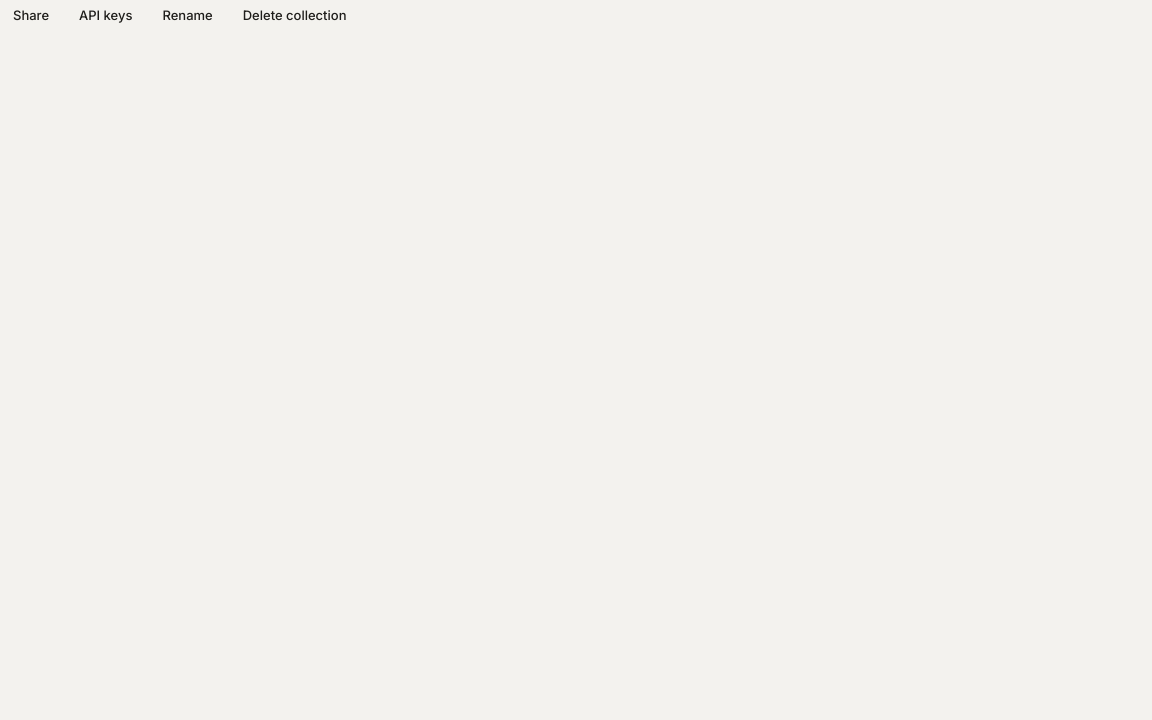
Test: Collection settings › keeps the dialog open and says why when deleting fails
Click the button "Delete collection". click: (295, 16)
box: [230,0,360,32]
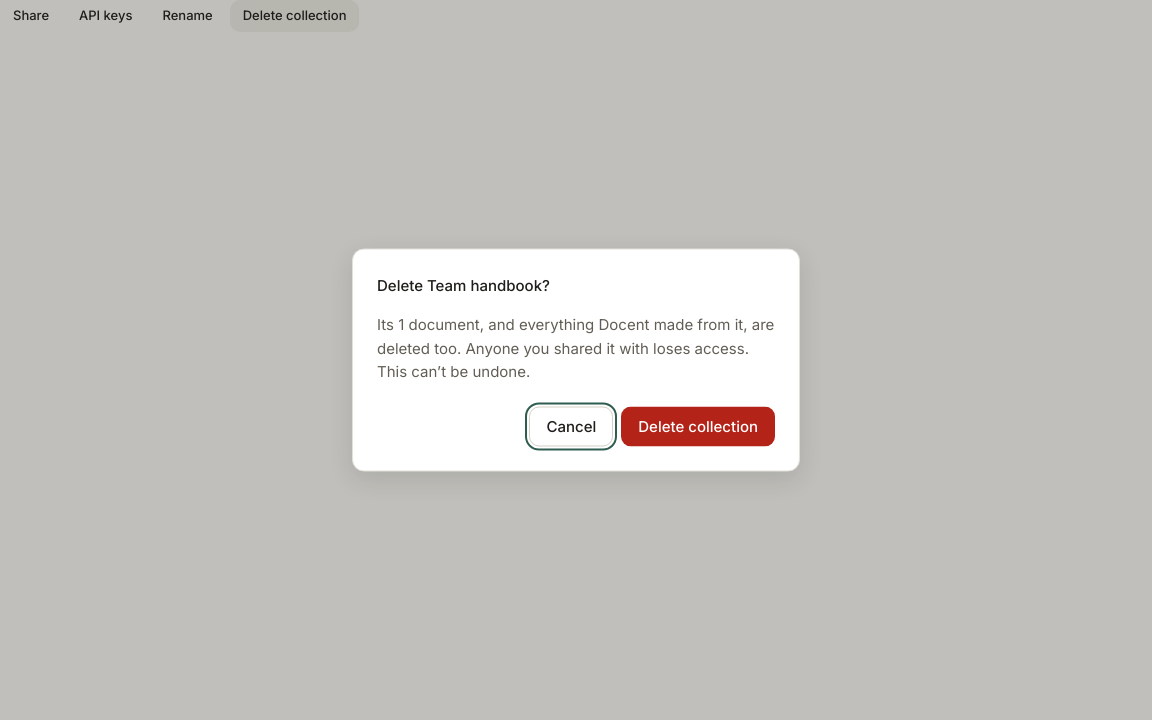
Click the button "Delete collection". click: (698, 426)
box: [621,406,775,446]
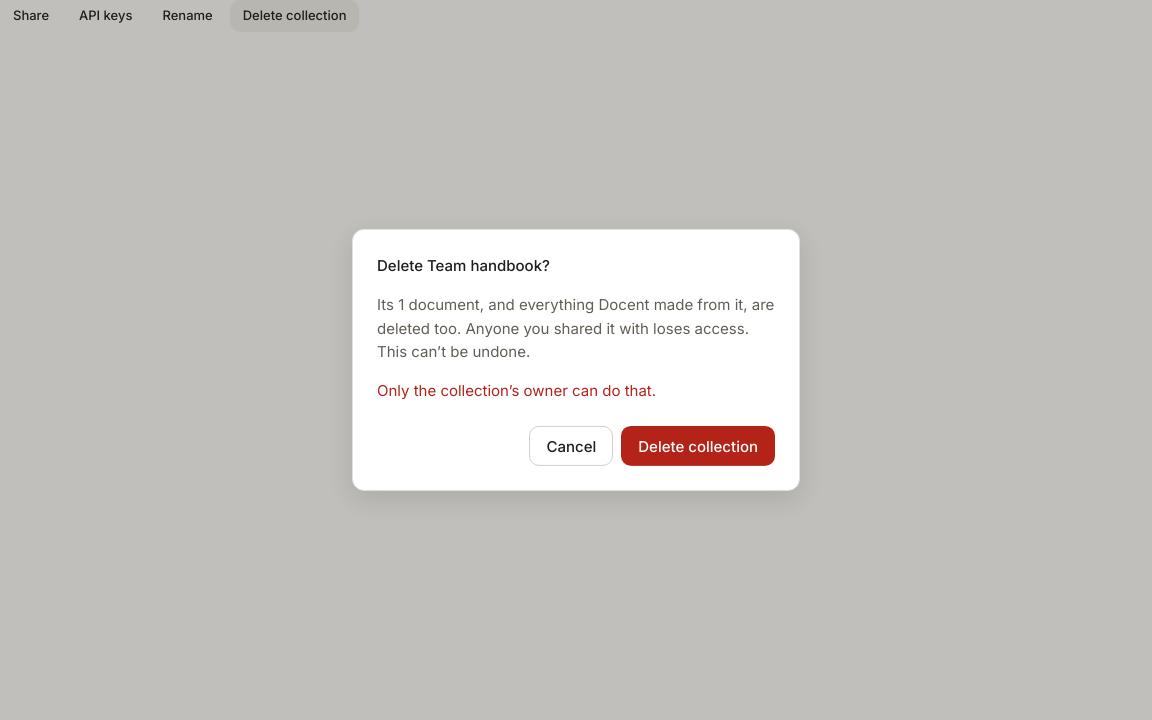
Result: the message shows "Only the collection’s owner" at [377,381,656,400]
